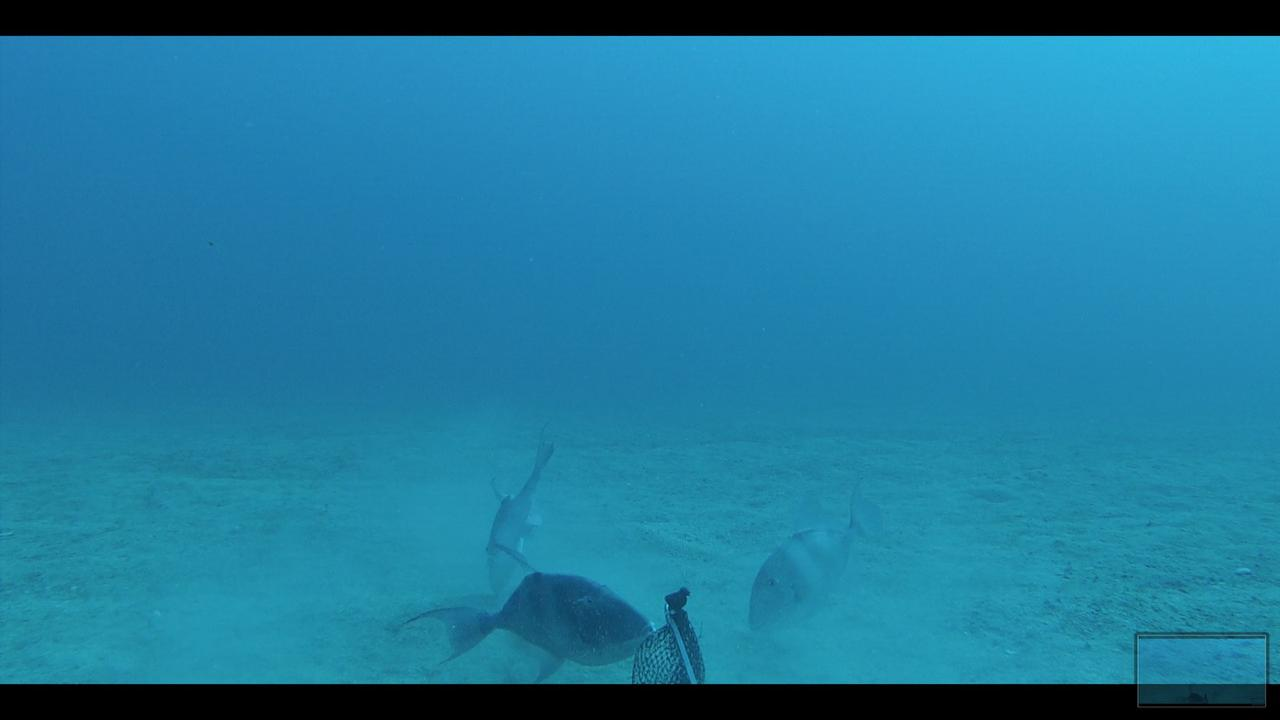balistes: (394, 538, 659, 682), (742, 476, 902, 636), (475, 418, 560, 600)
